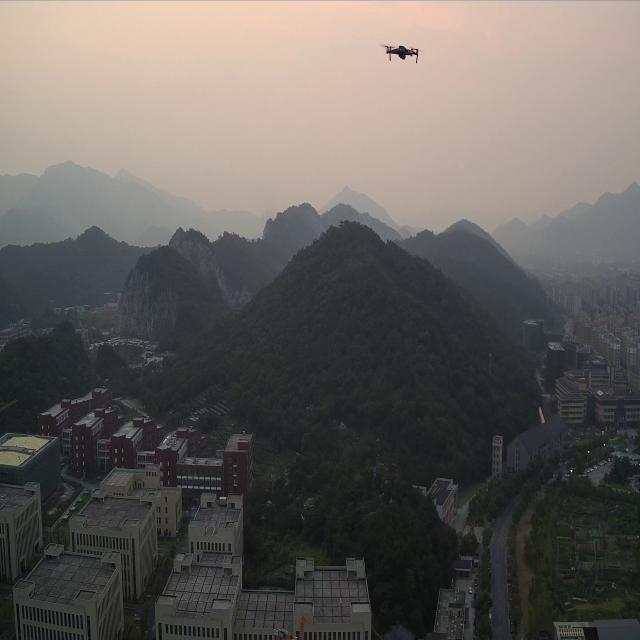UAV: (380, 38, 422, 64)
